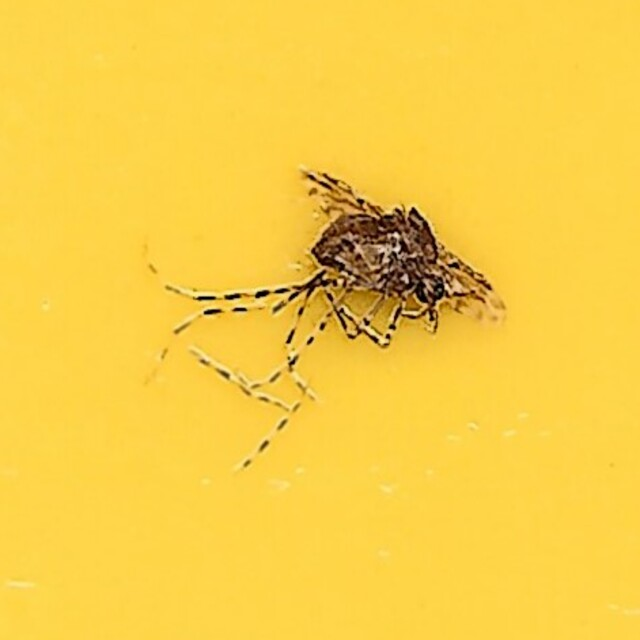Nematocera: (136, 162, 504, 478)
